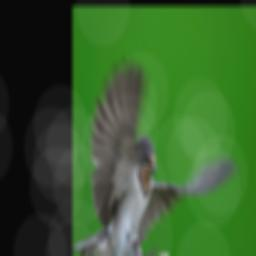Swallow: (75, 56, 235, 256)
